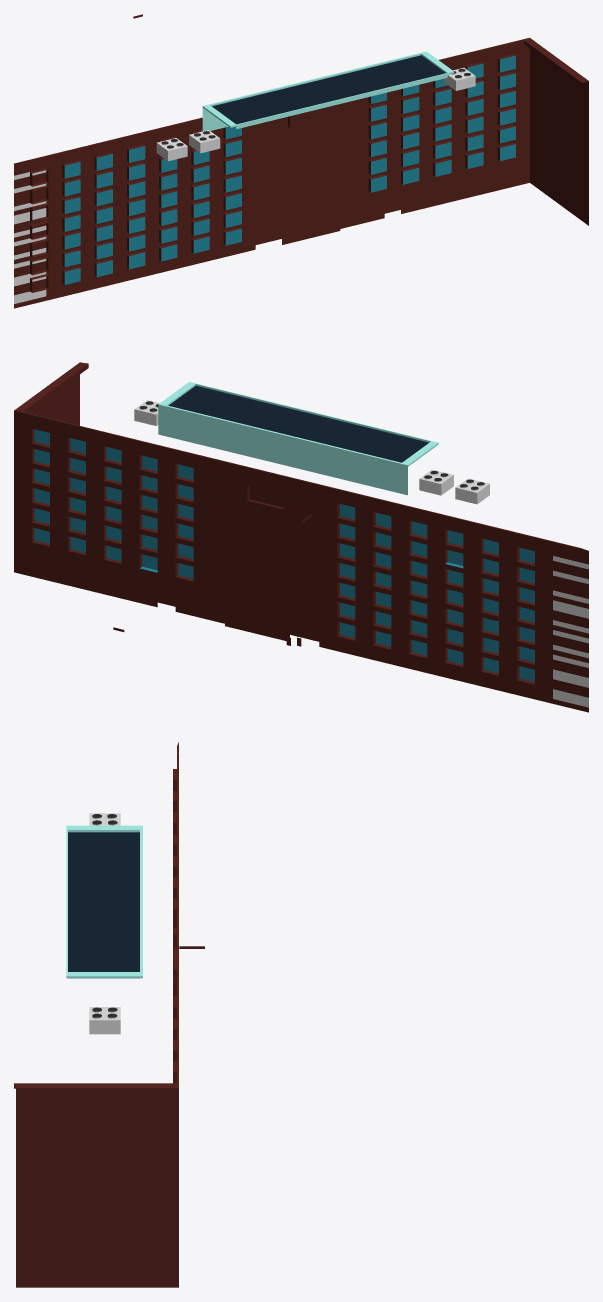
File: IDKThisBuilding.fbx
The picture shows the model from 3 angles, top to bottom: view 1: azimuth 30°, elevation 25°; view 2: azimuth 150°, elevation 25°; view 3: azimuth 270°, elevation 25°; orthographic projection. The views are drawn at different scales.
Parts seen in each view (by area): view 1: Main; view 2: Main; view 3: Main.
Part boxes in pixels (left/top/right/bottom): Main: left=14, top=14, right=588, bottom=308; Main: left=14, top=362, right=588, bottom=712; Main: left=14, top=742, right=204, bottom=1287.
Bounding box in the file's own units: 10449 × 3318 × 7323.
